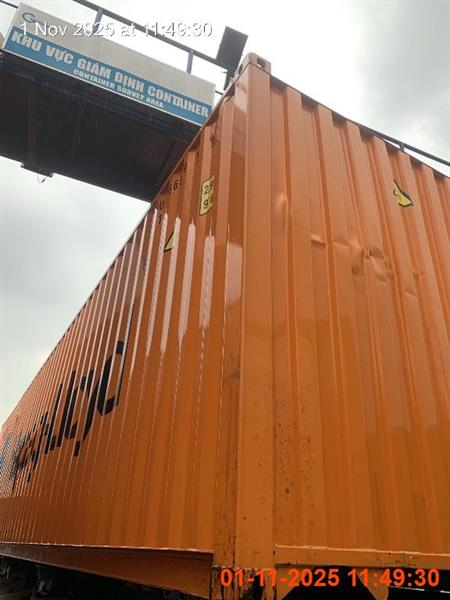crack: (0, 52, 449, 598)
